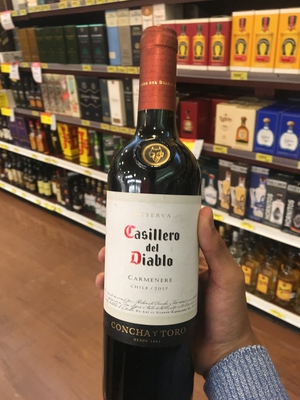casillero del diablo carmenere: (91, 29, 221, 383)
